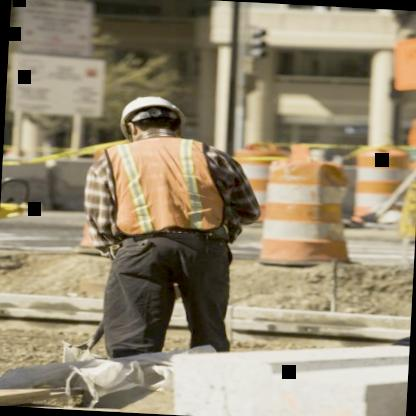helmet: (118, 92, 186, 151)
